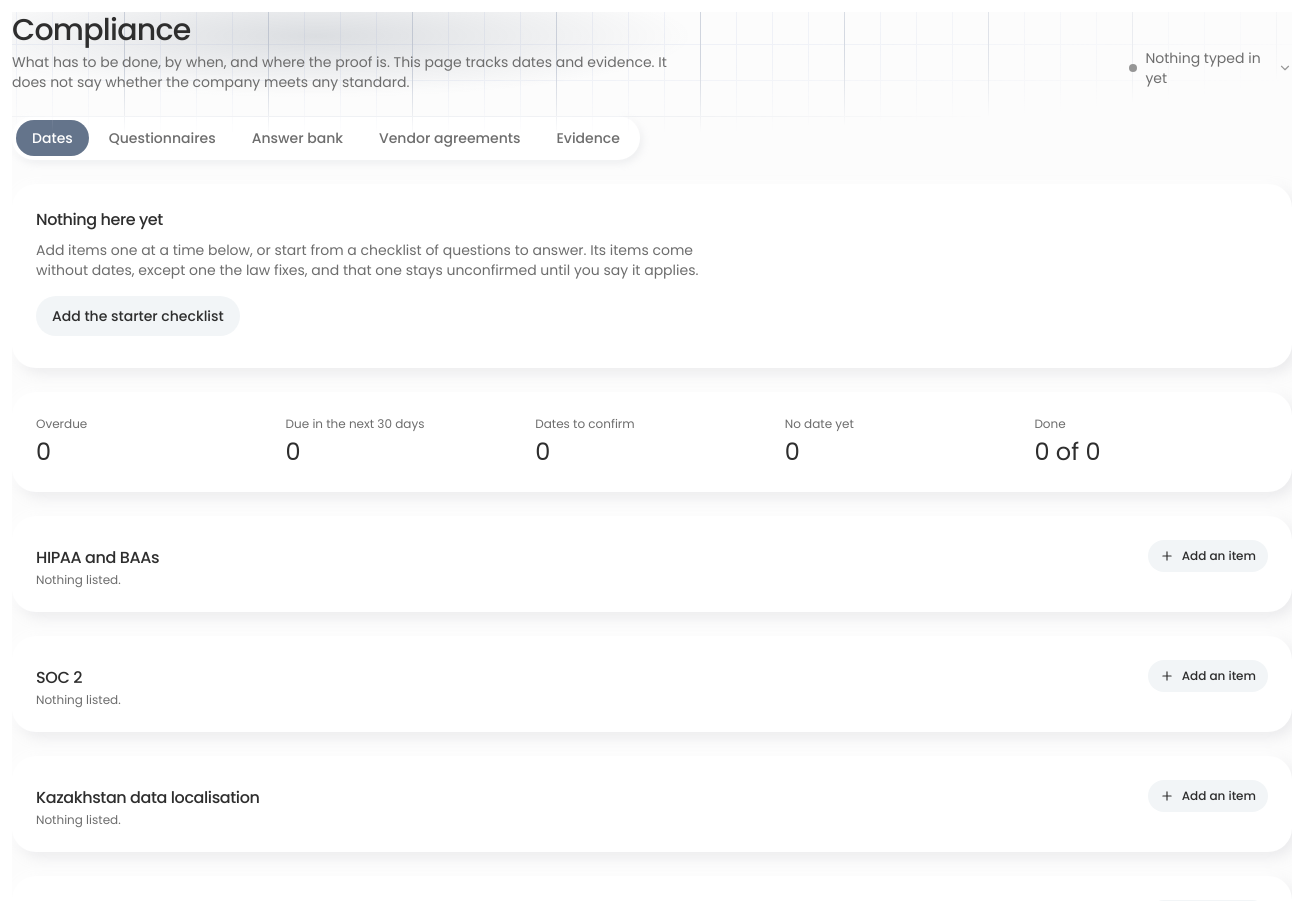
the compliance page › the checklist is added only when asked for, with the owner's date
Click the button "Add the starter checklist" at (138, 316), box x1=36 y1=296 x2=240 y2=336
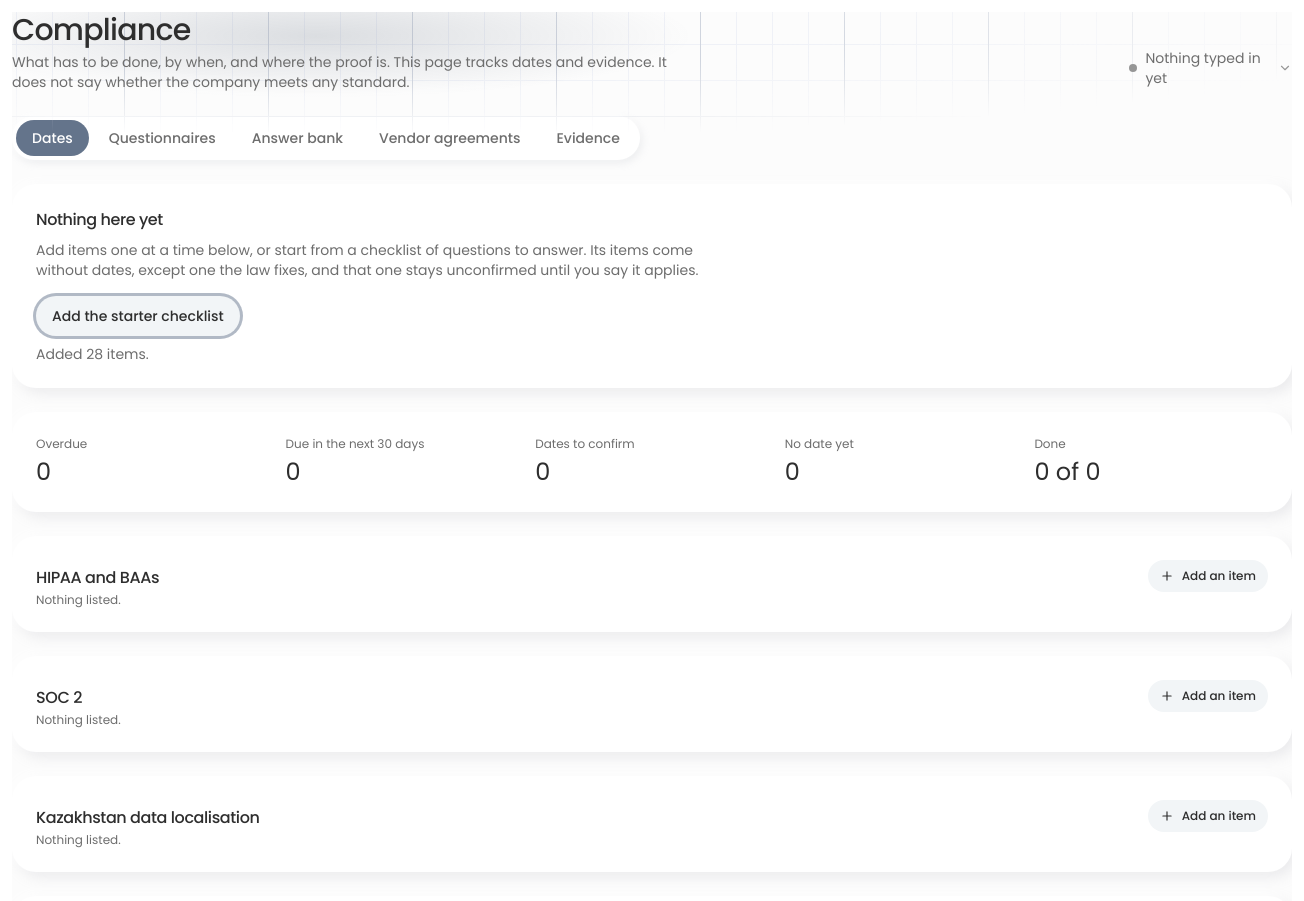
Result: the text "Added 28 items." is shown at x1=36 y1=344 x2=149 y2=364
